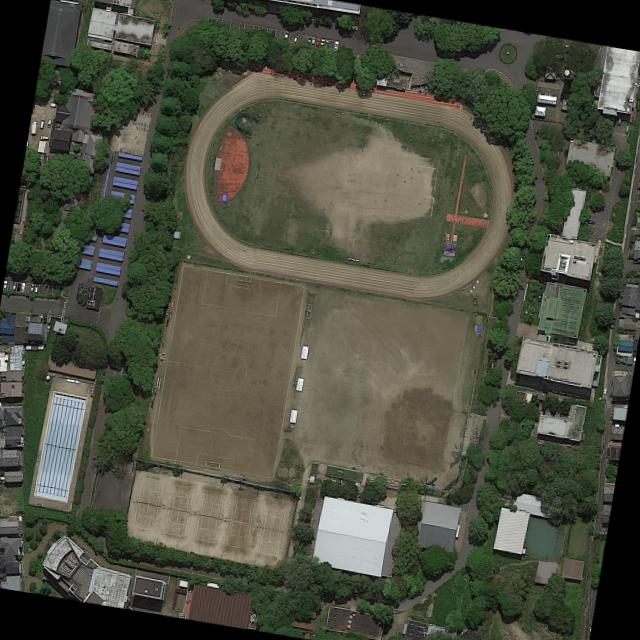large-vehicle: (31, 120, 38, 134)
small-vehicle: (21, 282, 26, 294), (41, 135, 50, 141), (586, 219, 595, 225), (320, 38, 326, 47), (40, 119, 45, 129), (316, 37, 321, 47), (334, 41, 339, 51), (307, 36, 312, 45), (284, 32, 289, 41), (47, 119, 52, 128), (12, 282, 17, 291), (30, 284, 35, 293), (294, 34, 299, 43), (625, 126, 630, 135), (349, 25, 358, 30), (271, 30, 276, 38), (17, 282, 21, 292), (34, 285, 39, 293), (46, 325, 51, 333), (325, 40, 330, 48), (607, 448, 611, 457), (312, 36, 316, 45), (618, 117, 622, 126), (50, 103, 58, 107), (48, 316, 52, 324), (40, 315, 44, 323), (44, 314, 47, 323)
